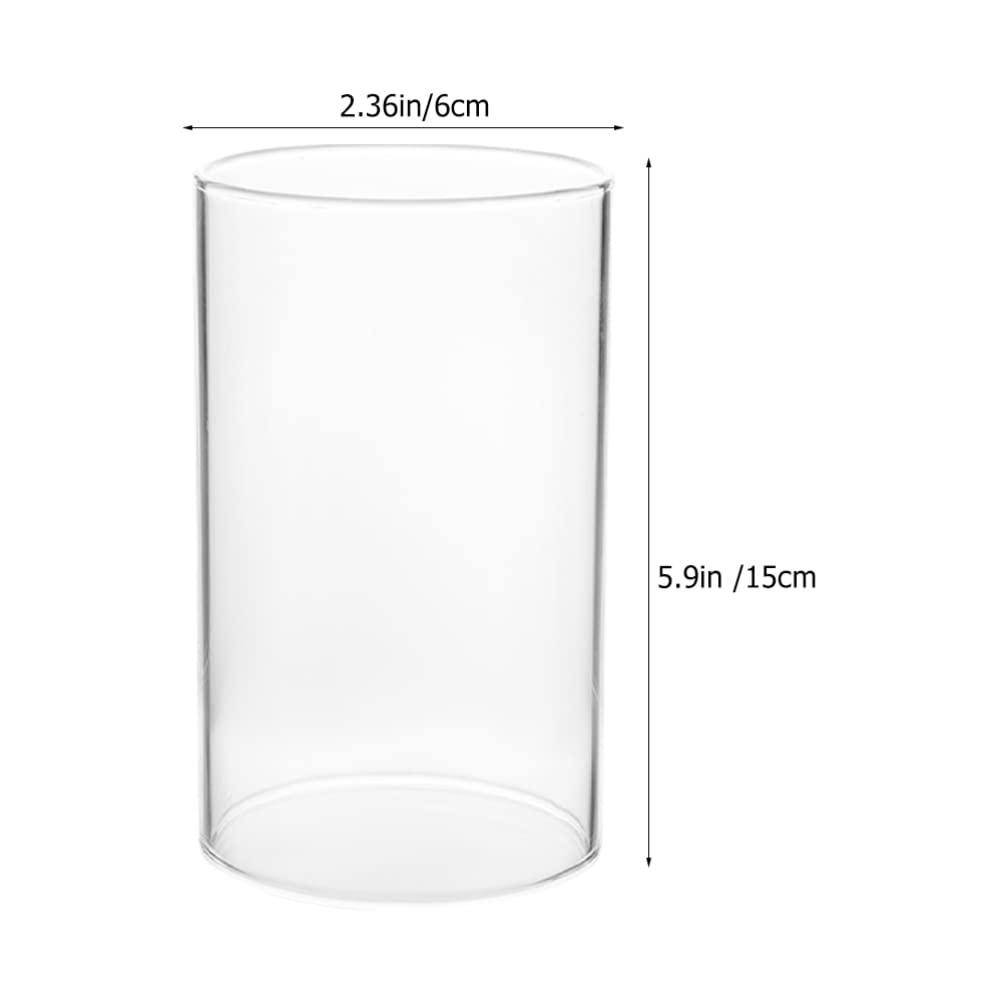/15cm: (733, 564, 816, 593)
2.36in/6cm: (340, 93, 488, 122)
5.9in: (658, 565, 722, 589)
